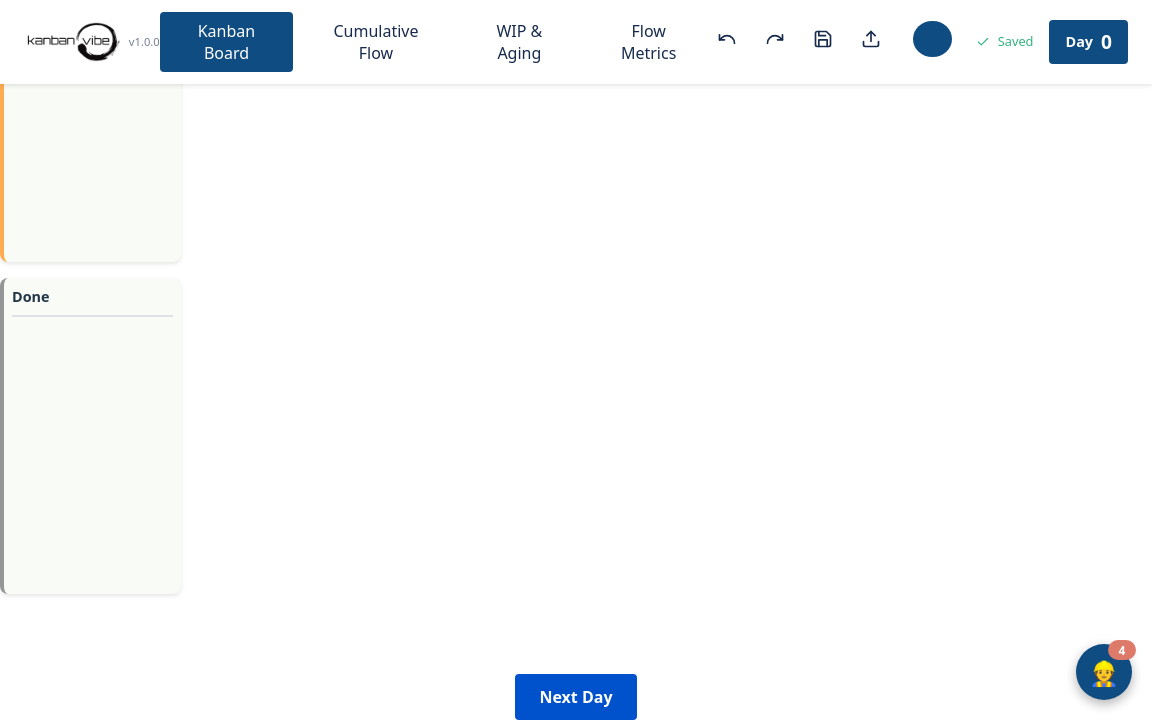
Test: App Component › increments the day counter when Next Day is clicked
(page scrolled)
Note: click Next Day button
Click the button "Next Day": (576, 697) x1=515 y1=674 x2=636 y2=719
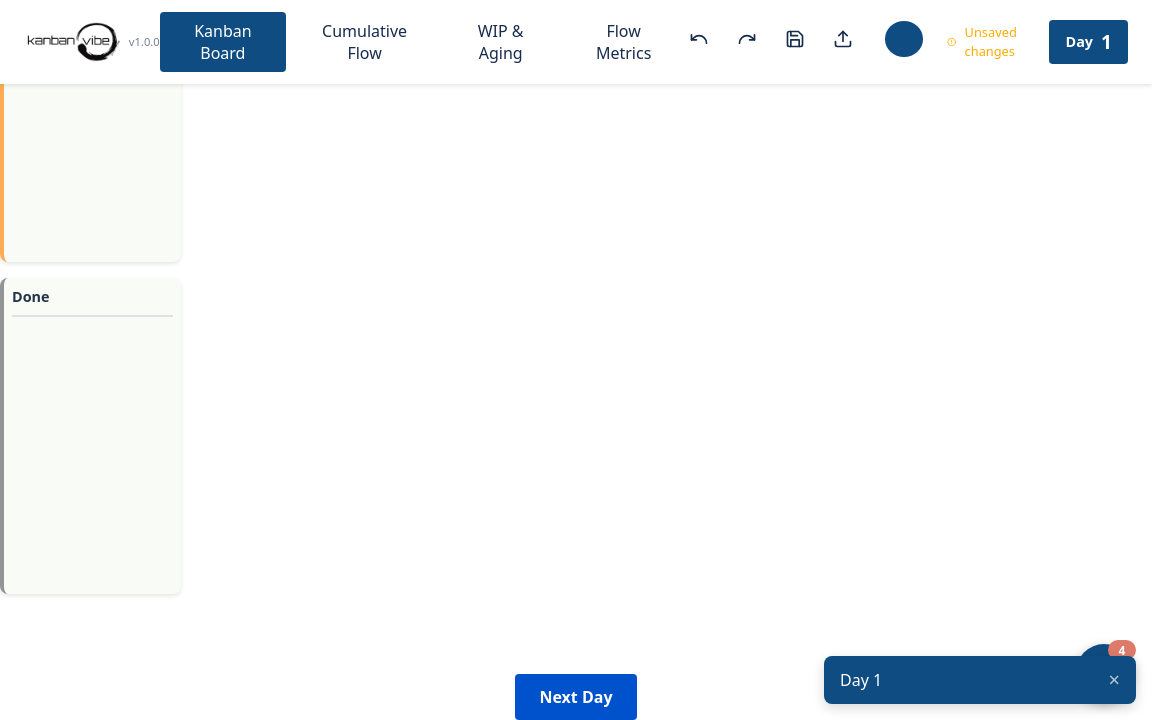
Check: the text with test id "day-counter" reads "1", box x1=1101 y1=28 x2=1112 y2=55
